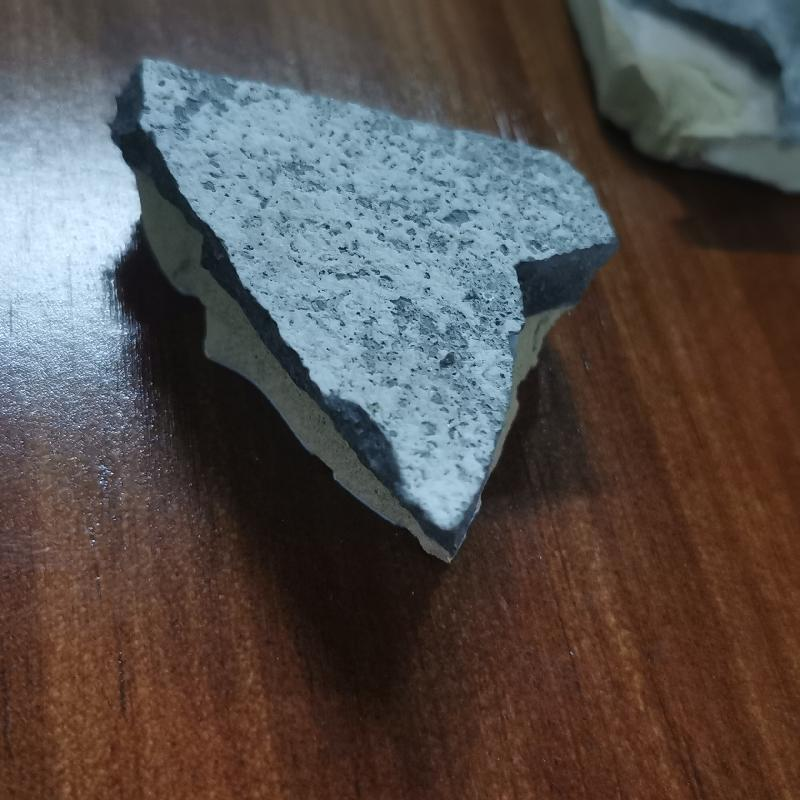tile: (104, 54, 622, 567)
